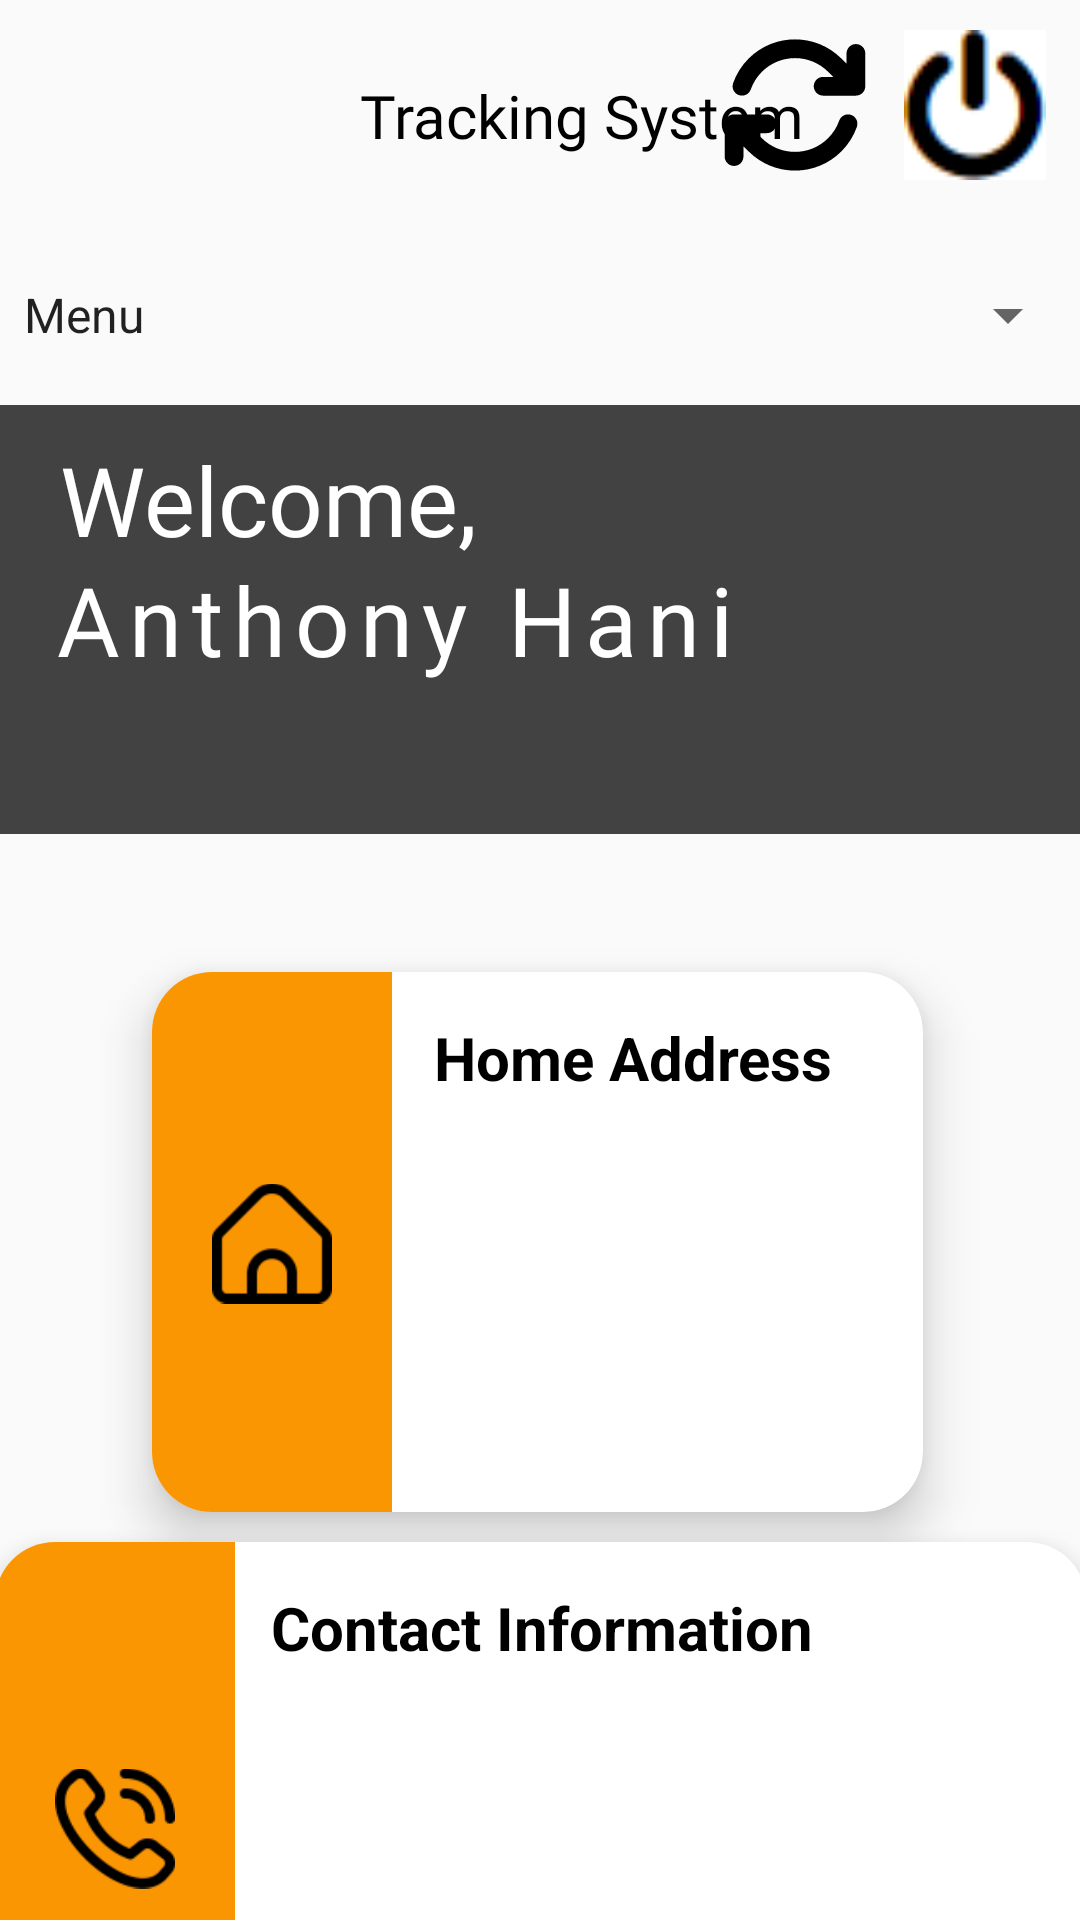

Icons on this 1080 x 1920 Android screen, each with its box as [x1=x1, y1=y1, x2=x2, y2=y2]:
phone call: [x1=55, y1=1769, x2=175, y2=1889]
